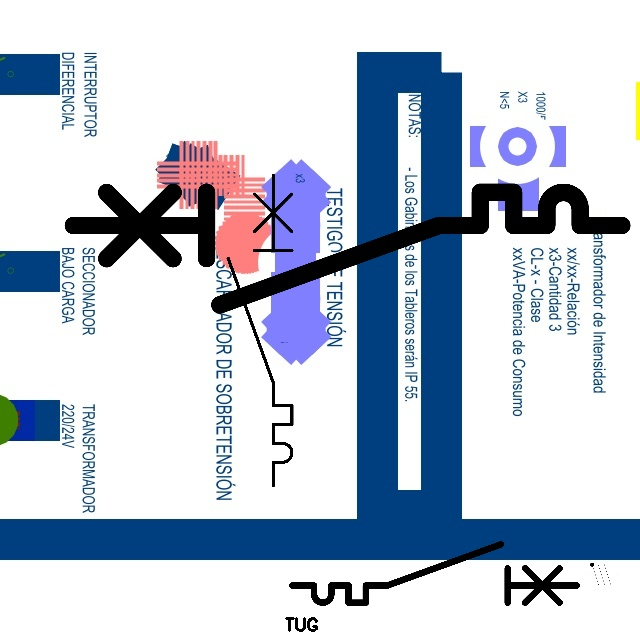interruptor_termomagnetico: (59, 178, 636, 319), (220, 167, 300, 494), (285, 537, 584, 610)
